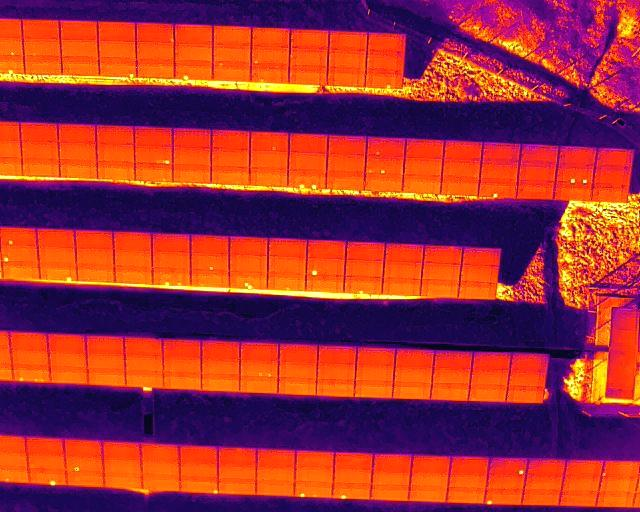Cell: (250, 131, 289, 150), (367, 138, 405, 157), (251, 64, 289, 83), (134, 146, 173, 164), (191, 253, 229, 271), (99, 60, 138, 77), (252, 47, 290, 64), (213, 63, 251, 80), (489, 458, 526, 475), (307, 258, 344, 275), (0, 246, 39, 262), (344, 277, 382, 293), (268, 274, 306, 290), (28, 470, 65, 486), (366, 72, 403, 88), (0, 229, 37, 245), (332, 484, 370, 499), (180, 478, 218, 493), (175, 64, 213, 79), (65, 457, 102, 472), (40, 264, 77, 279), (486, 489, 522, 504), (479, 183, 517, 196)
Cell-Multi: (365, 158, 404, 177), (241, 359, 278, 377), (556, 168, 595, 185), (12, 365, 50, 382), (287, 171, 325, 187), (294, 482, 332, 498), (230, 273, 268, 289), (153, 270, 191, 285)
No-Anomaly: (558, 148, 599, 168), (517, 166, 557, 186), (481, 143, 521, 163), (98, 39, 136, 60), (406, 141, 445, 161), (327, 154, 366, 174), (441, 161, 480, 181), (191, 234, 230, 254), (289, 152, 327, 172), (291, 29, 329, 49), (327, 51, 367, 70), (98, 22, 136, 42), (329, 31, 368, 50), (480, 163, 519, 182), (592, 168, 631, 187), (424, 244, 463, 263), (367, 52, 404, 72), (97, 144, 135, 163), (520, 146, 558, 165), (22, 20, 60, 39), (136, 42, 174, 61), (175, 26, 213, 45), (423, 262, 461, 281), (346, 242, 384, 261), (36, 229, 76, 247), (367, 33, 404, 52), (253, 28, 290, 47), (249, 151, 288, 169), (443, 142, 482, 160), (229, 237, 268, 255), (162, 339, 201, 357), (385, 244, 424, 262), (345, 259, 384, 277), (75, 230, 114, 248), (431, 383, 469, 401), (355, 381, 393, 399), (173, 147, 211, 165), (511, 353, 547, 372), (152, 233, 190, 251), (357, 347, 395, 365), (396, 348, 434, 366), (114, 249, 152, 267), (308, 240, 346, 258), (213, 27, 251, 45), (463, 246, 499, 265), (60, 21, 98, 39), (268, 239, 306, 257), (213, 45, 251, 63), (58, 125, 95, 143), (317, 380, 354, 398), (279, 378, 316, 396), (59, 143, 96, 161), (596, 150, 633, 168), (24, 56, 61, 74), (290, 50, 327, 68), (136, 23, 171, 42), (96, 126, 135, 143), (211, 131, 250, 148), (334, 453, 373, 470), (61, 40, 100, 57), (404, 160, 443, 177), (289, 65, 328, 82), (382, 278, 421, 295), (124, 337, 163, 354), (268, 257, 307, 274), (136, 61, 175, 78), (113, 232, 152, 249), (22, 141, 58, 159), (461, 264, 497, 282), (394, 366, 432, 383), (135, 129, 173, 146), (471, 369, 509, 386), (218, 448, 256, 465), (328, 137, 366, 154), (211, 149, 249, 166), (50, 366, 88, 383), (280, 345, 318, 362), (241, 343, 279, 360), (434, 351, 472, 368), (230, 255, 268, 272), (153, 252, 191, 269), (77, 248, 115, 265), (473, 352, 511, 369), (385, 262, 423, 279), (421, 280, 459, 297), (175, 45, 213, 62), (25, 437, 65, 453), (181, 446, 218, 463), (393, 383, 430, 400), (290, 135, 327, 152), (413, 456, 450, 473), (566, 460, 603, 477), (24, 40, 61, 57), (60, 161, 97, 178), (211, 166, 248, 183), (141, 444, 180, 460), (468, 386, 507, 402), (527, 459, 566, 475), (317, 363, 356, 379), (249, 169, 288, 185), (374, 454, 413, 470), (201, 342, 240, 358), (21, 124, 57, 141), (257, 449, 295, 465), (450, 457, 488, 473), (134, 164, 172, 180), (173, 165, 211, 181), (295, 451, 333, 467), (600, 477, 638, 493), (318, 346, 356, 362), (39, 248, 77, 264), (62, 58, 100, 74), (163, 373, 200, 389), (66, 440, 103, 456), (240, 377, 277, 393), (103, 442, 140, 458), (125, 355, 162, 371), (88, 369, 125, 385), (49, 335, 86, 351), (87, 338, 124, 354), (447, 488, 484, 504), (141, 461, 180, 476), (448, 474, 487, 489), (202, 359, 241, 374), (402, 177, 441, 192), (295, 467, 334, 482), (516, 185, 555, 200), (369, 486, 408, 501), (191, 271, 230, 286), (77, 266, 116, 281), (604, 461, 640, 477), (459, 282, 495, 298), (257, 465, 295, 480), (180, 463, 218, 478), (333, 469, 371, 484), (371, 471, 409, 486), (356, 365, 394, 380), (279, 362, 317, 377), (163, 357, 201, 372), (218, 464, 256, 479), (1, 263, 39, 278), (257, 481, 295, 496), (218, 480, 256, 495), (562, 476, 600, 491), (11, 349, 49, 364), (522, 489, 560, 504), (327, 71, 365, 86), (173, 131, 210, 146), (125, 371, 162, 386), (97, 163, 134, 178), (433, 368, 470, 383), (598, 492, 635, 507), (50, 351, 87, 366), (525, 474, 562, 489), (201, 375, 240, 389), (66, 472, 105, 486), (553, 186, 592, 200), (509, 372, 545, 387), (507, 388, 543, 403), (23, 160, 59, 175), (27, 454, 65, 468), (410, 473, 448, 487), (364, 177, 402, 191), (409, 488, 447, 502), (115, 268, 153, 282), (560, 491, 598, 505), (104, 459, 141, 473), (104, 473, 141, 487), (87, 354, 124, 368), (11, 334, 48, 348), (307, 276, 344, 290), (488, 474, 524, 488), (591, 187, 629, 200), (326, 176, 364, 188), (141, 476, 179, 488), (440, 182, 478, 194)
